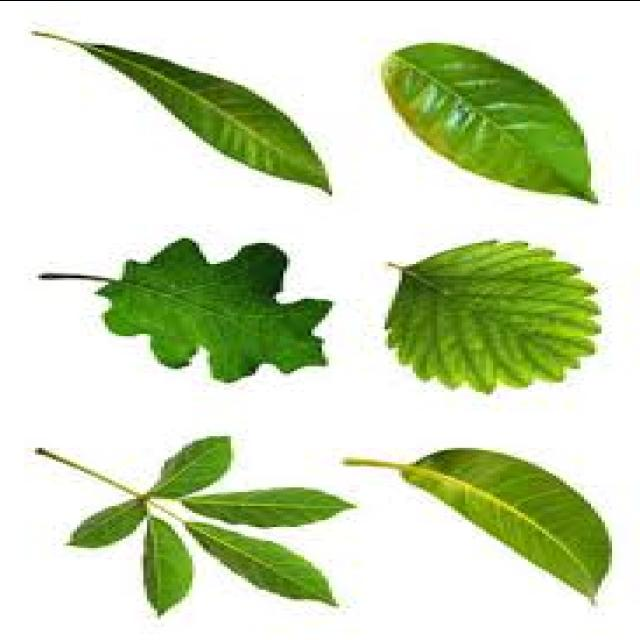leaves: (38, 34, 330, 191), (42, 239, 332, 381), (385, 43, 597, 201), (387, 243, 595, 391), (403, 450, 606, 587), (186, 521, 338, 603), (184, 487, 354, 526), (151, 436, 230, 497), (145, 516, 193, 614), (70, 501, 146, 546)
